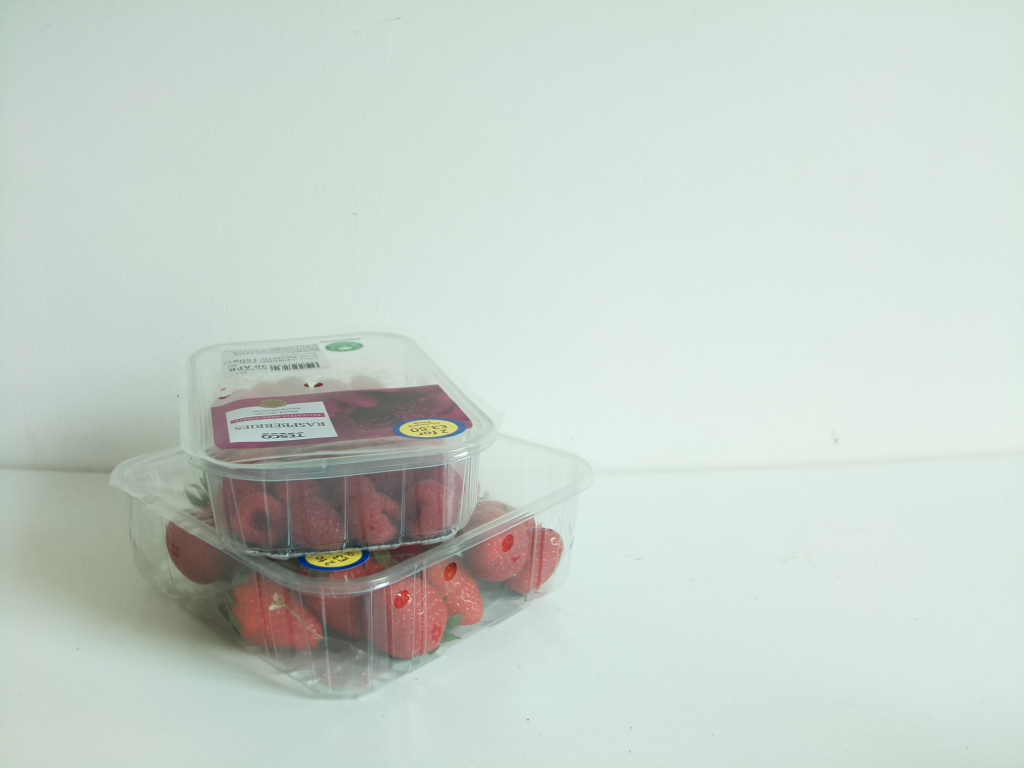soft-fruit: (117, 433, 594, 708), (177, 331, 491, 547)
